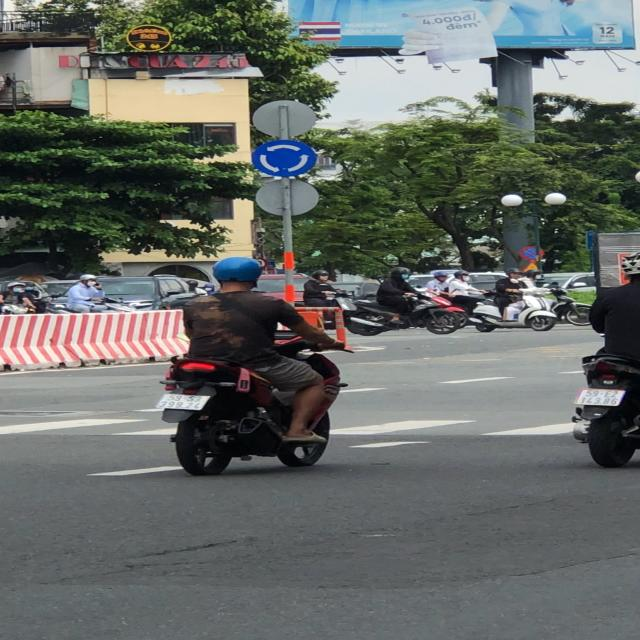Bien bao noi giao nhau chay theo vong xuyen: (246, 136, 328, 179)
